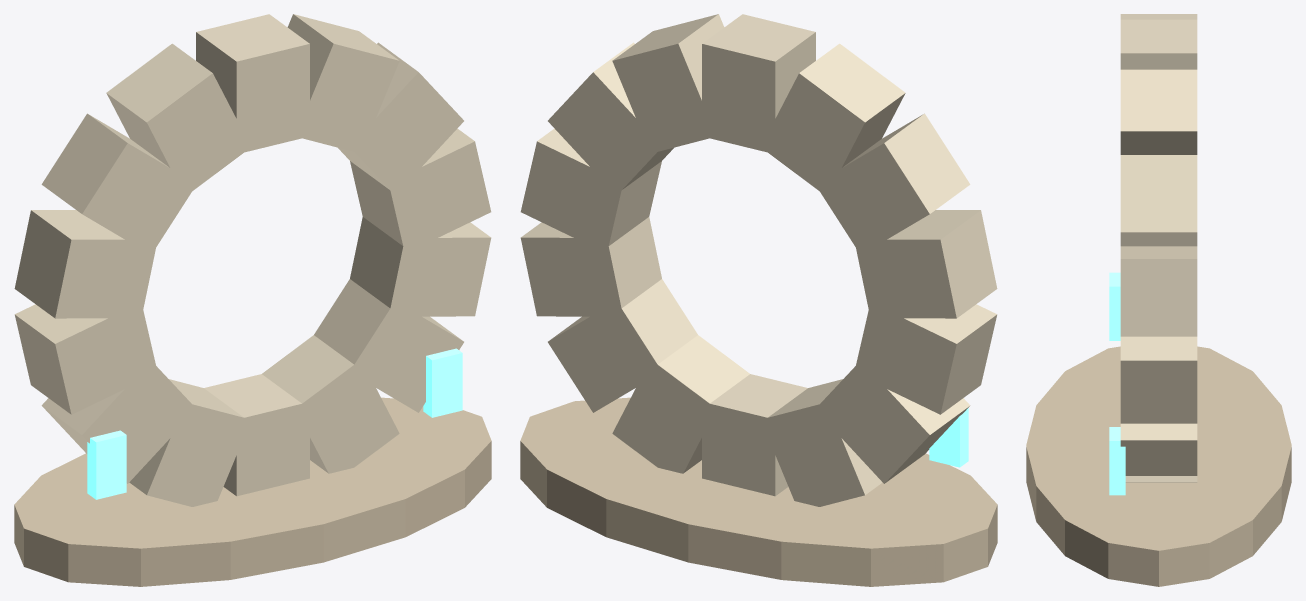
File: Portal.glb
3 renders of one model, left to right at view 1: azimuth 30°, elevation 25°; view 2: azimuth 150°, elevation 25°; view 3: azimuth 270°, elevation 25°, orthographic. The views are drawn at different scales.
Visible parts, largest first — view 1: Path, Ivory.014, Ivory.016, Ivory.003, Ivory.015, Ivory.013, Ivory.007, Ivory.009, Ivory.008, Ivory.006, Ivory.004, Ivory.010 (+5 smaller); view 2: Path, Ivory.014, Ivory.016, Ivory.003, Ivory.015, Ivory.013, Ivory.007, Ivory.009, Ivory.008, Ivory.006, Ivory.004, Ivory.012 (+4 smaller); view 3: Path, Ivory.005, Ivory.006, Ivory.007, Ivory.004, Ivory.008, Ivory.003, Glow.006, Glow.005, Ivory.009, Ivory.016.
Part boxes in pixels (x1=…): Path: x1=14, y1=397, x2=491, y2=586; Ivory.014: x1=14, y1=210, x2=157, y2=318; Ivory.016: x1=106, y1=43, x2=250, y2=190; Ivory.003: x1=196, y1=14, x2=309, y2=154; Ivory.015: x1=41, y1=113, x2=196, y2=248; Ivory.013: x1=14, y1=303, x2=157, y2=414; Ivory.007: x1=350, y1=217, x2=491, y2=316; Ivory.009: x1=262, y1=335, x2=399, y2=473; Ivory.008: x1=314, y1=279, x2=463, y2=412; Ivory.006: x1=350, y1=128, x2=491, y2=253; Ivory.004: x1=287, y1=14, x2=399, y2=151; Ivory.010: x1=204, y1=374, x2=309, y2=496; Path: x1=520, y1=397, x2=997, y2=586; Ivory.014: x1=854, y1=210, x2=997, y2=318; Ivory.016: x1=761, y1=43, x2=905, y2=196; Ivory.003: x1=702, y1=14, x2=815, y2=154; Ivory.015: x1=815, y1=113, x2=970, y2=251; Ivory.013: x1=854, y1=303, x2=997, y2=414; Ivory.007: x1=520, y1=217, x2=661, y2=316; Ivory.009: x1=612, y1=335, x2=749, y2=473; Ivory.008: x1=548, y1=279, x2=697, y2=412; Ivory.006: x1=520, y1=128, x2=661, y2=253; Ivory.004: x1=612, y1=14, x2=724, y2=153; Ivory.012: x1=820, y1=361, x2=970, y2=483; Path: x1=1026, y1=346, x2=1291, y2=586; Ivory.005: x1=1120, y1=155, x2=1197, y2=246; Ivory.006: x1=1120, y1=246, x2=1197, y2=336; Ivory.007: x1=1120, y1=336, x2=1197, y2=423; Ivory.004: x1=1120, y1=69, x2=1197, y2=154; Ivory.008: x1=1120, y1=423, x2=1197, y2=475; Ivory.003: x1=1120, y1=19, x2=1197, y2=69; Glow.006: x1=1109, y1=427, x2=1125, y2=495; Glow.005: x1=1109, y1=272, x2=1120, y2=340; Ivory.009: x1=1125, y1=476, x2=1197, y2=482; Ivory.016: x1=1120, y1=14, x2=1197, y2=19.
Bounding box in the file's own units: 3 × 2.96 × 1.6.
